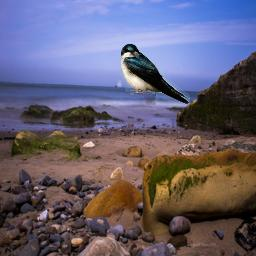Swallow: (120, 43, 190, 105)
